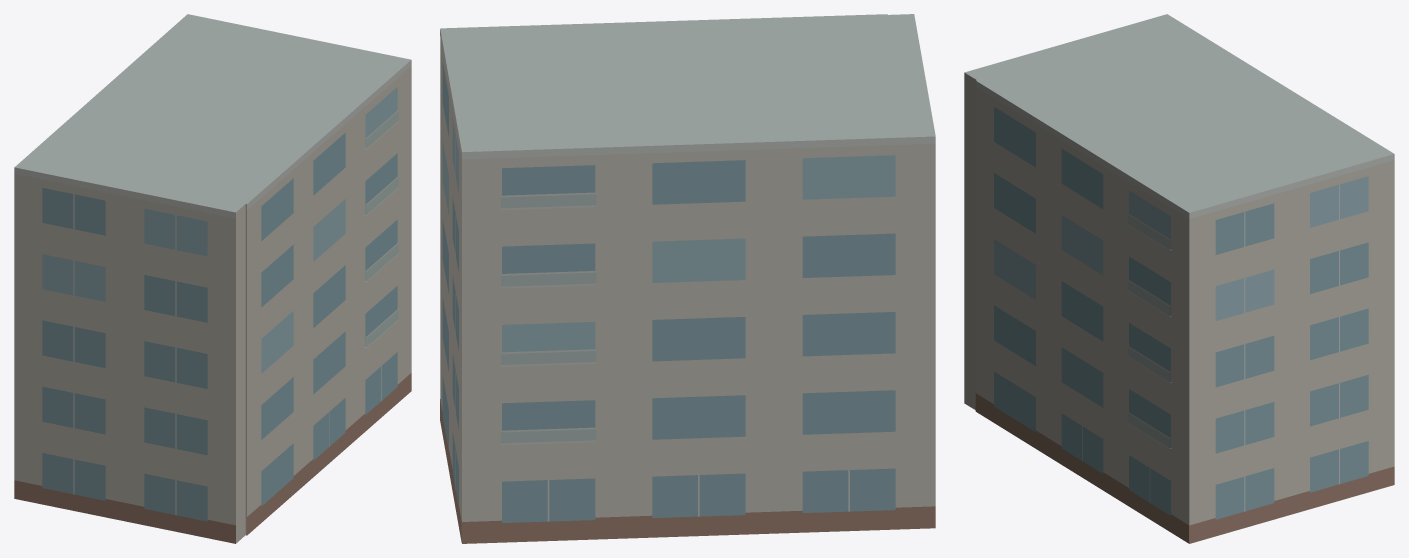
Rendered from survey-upis-32959326.glb.
The picture shows the model from 3 angles, left to right: view 1: azimuth 30°, elevation 25°; view 2: azimuth 150°, elevation 25°; view 3: azimuth 270°, elevation 25°; orthographic projection. The views are drawn at different scales.
Visible parts, largest first — view 1: survey-upis-32959326.tmp; view 2: survey-upis-32959326.tmp; view 3: survey-upis-32959326.tmp.
Part boxes in pixels (bbox=[...]): survey-upis-32959326.tmp: bbox=[14, 14, 411, 543]; survey-upis-32959326.tmp: bbox=[440, 14, 935, 543]; survey-upis-32959326.tmp: bbox=[964, 14, 1394, 543].
Bounding box in the file's own units: 17.02 × 13.2 × 15.56.
